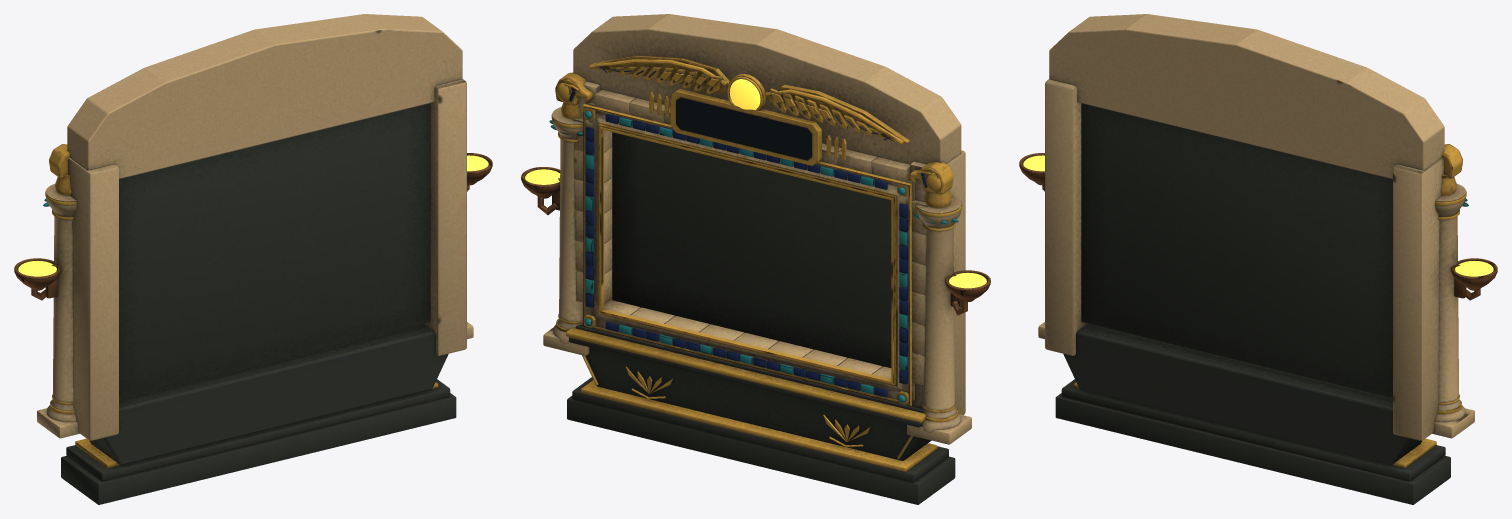
3 renders of one model, left to right at view 1: azimuth 30°, elevation 25°; view 2: azimuth 150°, elevation 25°; view 3: azimuth 330°, elevation 25°, orthographic.
Visible parts, largest first — view 1: Charcoal_sandstone, Fine_carved_sandstone, Warm_polished_gold, Bronze_bowl, glow_sun_and_embers; view 2: Charcoal_sandstone, Fine_carved_sandstone, Warm_polished_gold, Lapis_inlay, Even_dark_panel, Turquoise_enamel, Bronze_bowl, glow_sun_and_embers; view 3: Charcoal_sandstone, Fine_carved_sandstone, Warm_polished_gold, Bronze_bowl, glow_sun_and_embers.
Boxes of the visible parts, <box> form: Charcoal_sandstone: <box>61,103,456,504</box>; Fine_carved_sandstone: <box>37,14,473,440</box>; Warm_polished_gold: <box>45,144,438,468</box>; Bronze_bowl: <box>14,153,492,300</box>; glow_sun_and_embers: <box>18,155,488,276</box>; Charcoal_sandstone: <box>567,132,955,504</box>; Fine_carved_sandstone: <box>543,14,971,444</box>; Warm_polished_gold: <box>551,55,962,471</box>; Lapis_inlay: <box>569,66,927,397</box>; Even_dark_panel: <box>676,97,811,160</box>; Turquoise_enamel: <box>549,110,958,402</box>; Bronze_bowl: <box>521,167,990,315</box>; glow_sun_and_embers: <box>525,79,986,288</box>; Charcoal_sandstone: <box>1055,103,1450,504</box>; Fine_carved_sandstone: <box>1038,14,1474,440</box>; Warm_polished_gold: <box>1073,144,1466,468</box>; Bronze_bowl: <box>1019,153,1497,300</box>; glow_sun_and_embers: <box>1023,155,1493,276</box>.
Size of the model in its own units: 10.94 by 9.2 by 1.58.
8 materials, 7 textured.
